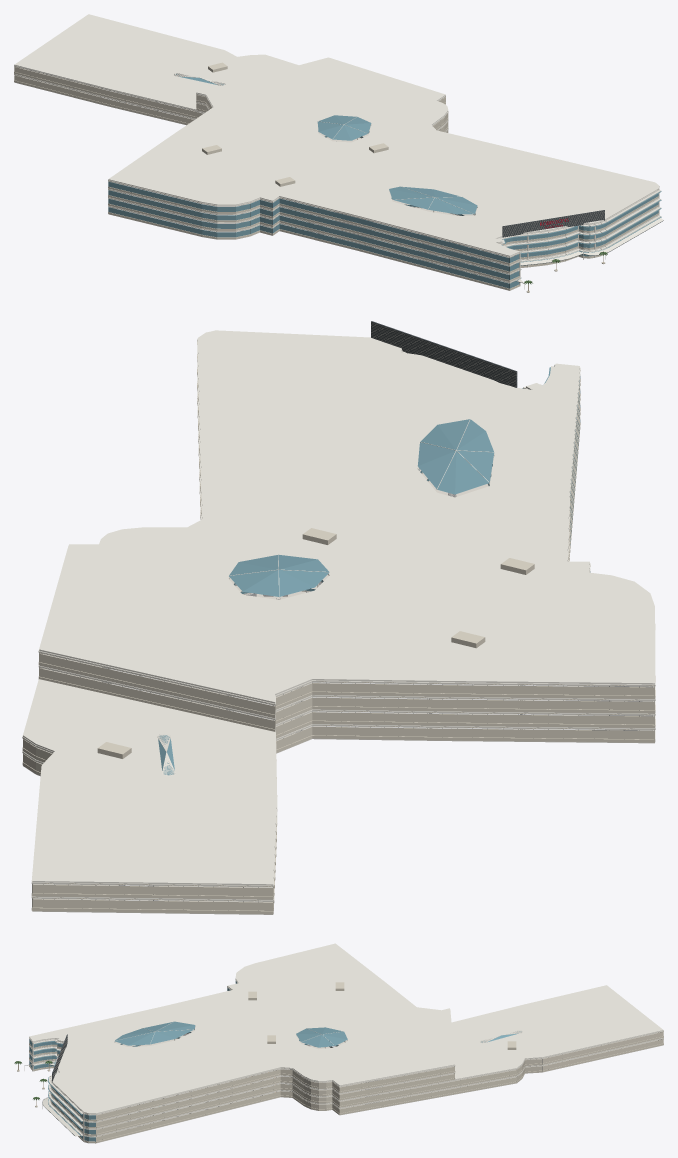
File: building.glb
3 renders of one model, top to bottom at view 1: azimuth 30°, elevation 25°; view 2: azimuth 150°, elevation 25°; view 3: azimuth 270°, elevation 25°, orthographic. The views are drawn at different scales.
Parts seen in each view (by area): view 1: Main mall roof, Lower Padre Faura roof, Faceted atrium skylight.002, Ribbed sign backing, Faceted atrium skylight.001, Floor slab - reference footprint, Recessed blue frontage.010, Recessed blue frontage.043, Recessed blue frontage.109, Recessed blue frontage.076, Floor slab - reference footprint.001, Floor slab - reference footprint.002 (+13 smaller); view 2: Main mall roof, Lower Padre Faura roof, Faceted atrium skylight.002, Faceted atrium skylight.001, Ribbed sign backing, Solid mall cladding.084, Solid mall cladding.069, Solid mall cladding.004, Solid mall cladding.059, Solid mall cladding.032, Solid mall cladding.074, Floor slab - reference footprint (+9 smaller); view 3: Main mall roof, Lower Padre Faura roof, Faceted atrium skylight.002, Solid mall cladding.075, Solid mall cladding.060, Solid mall cladding.005, Solid mall cladding.033, Solid mall cladding.013, Solid mall cladding.041, Floor slab - reference footprint, Faceted atrium skylight.001, Floor slab - reference footprint.001 (+10 smaller).
Boxes of the visible parts, x1,y1,x2,y2 form: Main mall roof: [108, 57, 659, 256]; Lower Padre Faura roof: [14, 14, 593, 273]; Faceted atrium skylight.002: [389, 186, 477, 214]; Ribbed sign backing: [502, 210, 604, 237]; Faceted atrium skylight.001: [317, 115, 371, 140]; Floor slab - reference footprint: [14, 77, 608, 290]; Recessed blue frontage.010: [358, 244, 509, 288]; Recessed blue frontage.043: [358, 235, 509, 279]; Recessed blue frontage.109: [358, 218, 509, 262]; Recessed blue frontage.076: [358, 227, 509, 271]; Floor slab - reference footprint.001: [14, 68, 654, 282]; Floor slab - reference footprint.002: [108, 110, 649, 273]; Main mall roof: [39, 330, 654, 703]; Lower Padre Faura roof: [23, 679, 276, 885]; Faceted atrium skylight.002: [417, 419, 494, 494]; Faceted atrium skylight.001: [229, 554, 329, 596]; Ribbed sign backing: [371, 321, 517, 387]; Solid mall cladding.084: [39, 653, 275, 714]; Solid mall cladding.069: [39, 668, 275, 729]; Solid mall cladding.004: [442, 728, 654, 739]; Solid mall cladding.059: [442, 699, 654, 710]; Solid mall cladding.032: [442, 714, 654, 724]; Solid mall cladding.074: [442, 685, 654, 695]; Floor slab - reference footprint: [23, 481, 654, 914]; Main mall roof: [29, 943, 454, 1113]; Lower Padre Faura roof: [40, 985, 663, 1128]; Faceted atrium skylight.002: [114, 1021, 195, 1045]; Solid mall cladding.075: [96, 1069, 280, 1119]; Solid mall cladding.060: [96, 1076, 280, 1126]; Solid mall cladding.005: [96, 1091, 280, 1141]; Solid mall cladding.033: [96, 1084, 280, 1133]; Solid mall cladding.013: [339, 1077, 516, 1113]; Solid mall cladding.041: [339, 1070, 516, 1105]; Floor slab - reference footprint: [33, 1040, 663, 1143]; Faceted atrium skylight.001: [296, 1027, 347, 1047]; Floor slab - reference footprint.001: [35, 1033, 662, 1135].
Bounding box in the file's own units: 276 × 28.92 × 446.
